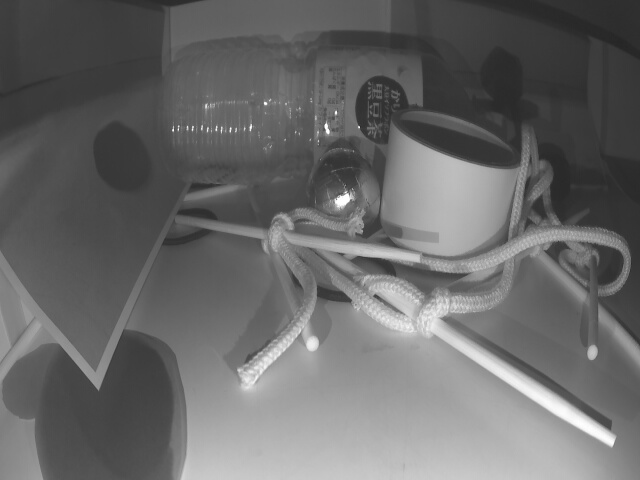Live: (305, 150, 380, 232)
